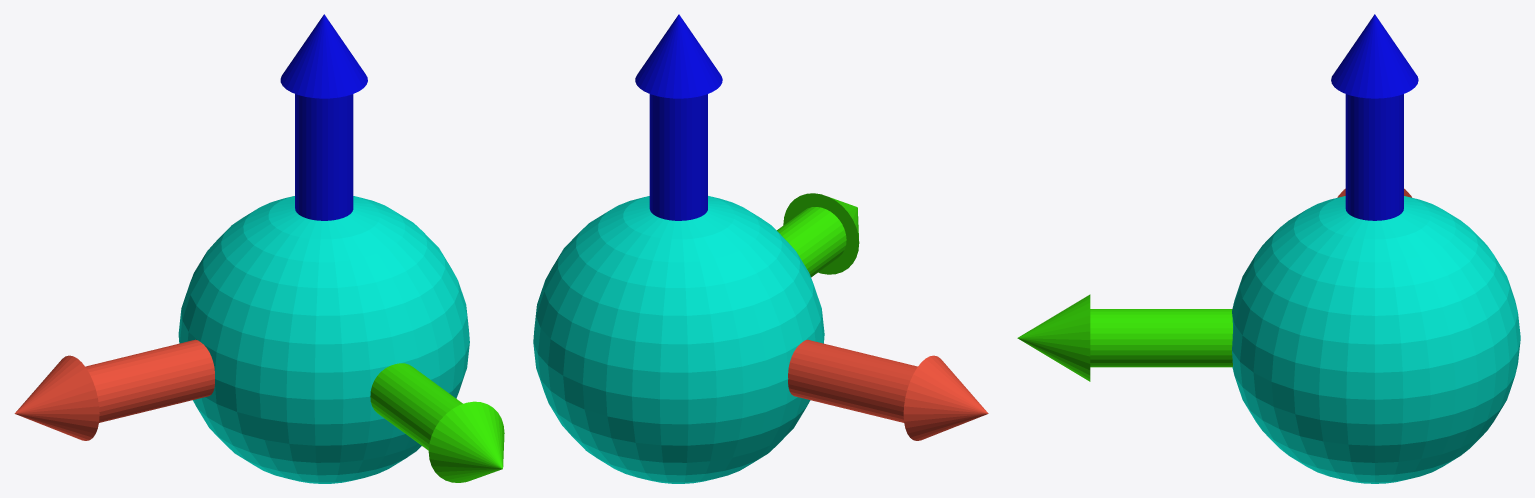
File: ball.fbx
3 views of the same model, side by side, from view 1: azimuth 30°, elevation 25°; view 2: azimuth 150°, elevation 25°; view 3: azimuth 270°, elevation 25° (orthographic).
Parts seen in each view (by area): view 1: Sphere, Cylinder, Cylinder.002, Cone.001, Cylinder.001, Cone.002, Cone; view 2: Sphere, Cylinder, Cylinder.002, Cone.002, Cone, Cylinder.001, Cone.001; view 3: Sphere, Cylinder.001, Cylinder, Cone, Cone.001.
Part boxes in pixels (box(x1,y1,x2,y2)): Sphere: box(178, 196, 469, 483); Cylinder: box(295, 94, 353, 220); Cylinder.002: box(85, 339, 214, 422); Cone.001: box(428, 401, 504, 482); Cylinder.001: box(370, 363, 462, 450); Cone.002: box(14, 355, 99, 440); Cone: box(280, 14, 367, 98); Sphere: box(533, 196, 824, 483); Cylinder: box(649, 94, 707, 220); Cylinder.002: box(788, 339, 917, 422); Cone.002: box(903, 355, 988, 440); Cone: box(635, 14, 722, 98); Cylinder.001: box(777, 207, 846, 277); Cone.001: box(783, 193, 859, 274); Sphere: box(1232, 196, 1520, 483); Cylinder.001: box(1090, 309, 1232, 367); Cylinder: box(1345, 94, 1403, 220); Cone: box(1331, 14, 1418, 98); Cone.001: box(1017, 294, 1090, 381).
Size of the model in its own units: 345 by 345 by 345.
